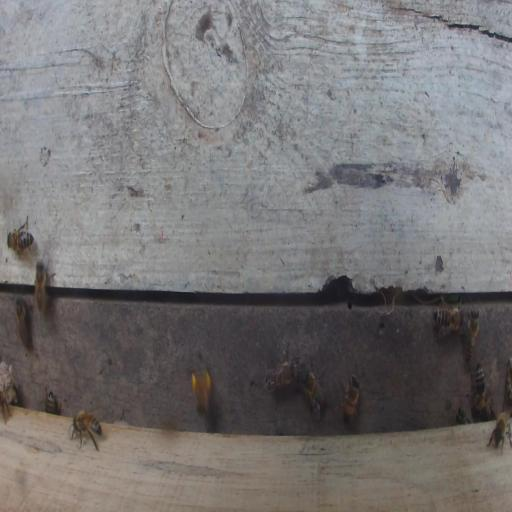nonpollenbee: (296, 363, 326, 421), (264, 347, 299, 392), (69, 408, 103, 451), (470, 360, 493, 420), (34, 258, 55, 320), (7, 214, 35, 259), (461, 307, 480, 364), (486, 411, 511, 454), (1, 365, 18, 422), (341, 374, 360, 424), (14, 297, 31, 349), (433, 306, 463, 334), (45, 389, 59, 415), (455, 407, 470, 425)
pollenbee: (192, 352, 211, 418)
